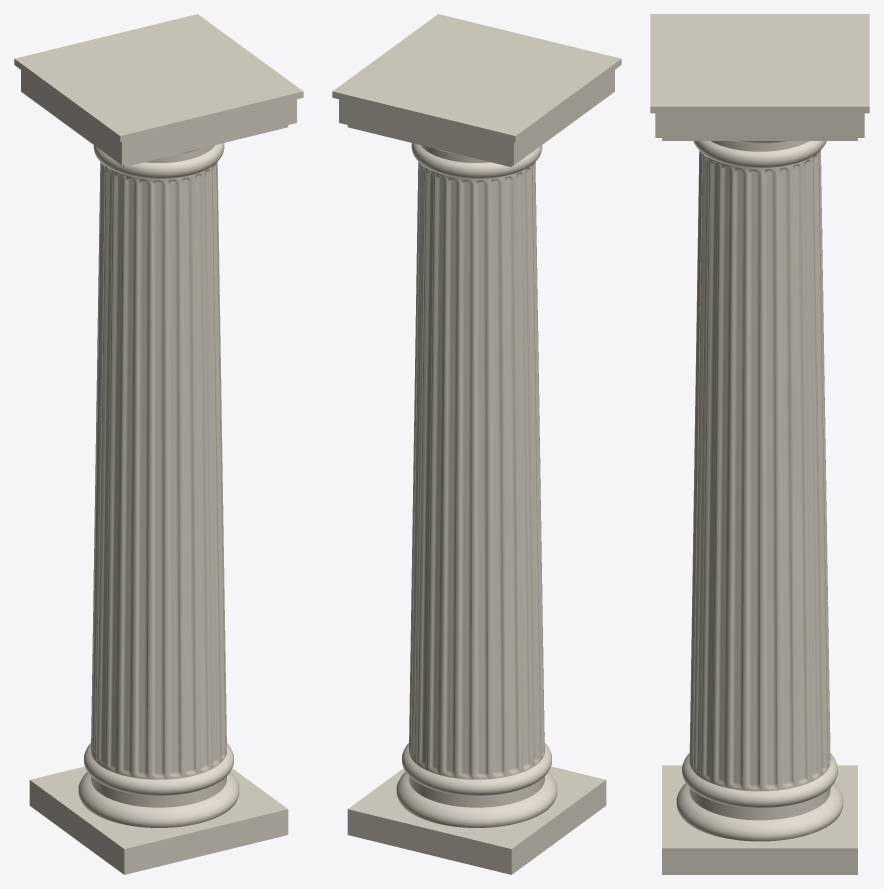
The model's file is column.glb.
The picture shows the model from 3 angles, left to right: view 1: azimuth 30°, elevation 25°; view 2: azimuth 150°, elevation 25°; view 3: azimuth 270°, elevation 25°; orthographic projection. The views are drawn at different scales.
Visible parts, largest first — view 1: polySurface57; view 2: polySurface57; view 3: polySurface57.
Boxes of the visible parts, x1,y1,x2,y2 form: polySurface57: [14, 14, 303, 874]; polySurface57: [332, 14, 621, 874]; polySurface57: [650, 14, 869, 874].
Bounding box in the file's own units: 4.73 × 18.39 × 4.73.
1 material, 1 textured.
